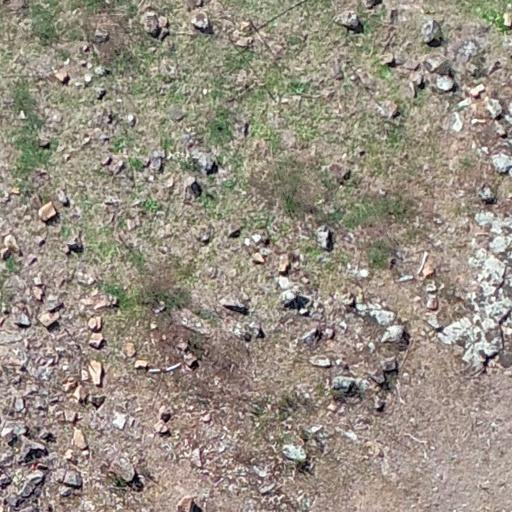stone: (468, 249, 512, 294), (459, 331, 502, 373), (238, 230, 273, 266), (473, 298, 512, 330), (106, 458, 143, 491), (170, 308, 210, 336), (474, 210, 512, 238), (186, 146, 218, 176), (36, 298, 64, 332), (330, 375, 364, 400), (370, 358, 399, 387), (438, 318, 470, 344), (17, 436, 48, 462), (17, 469, 44, 497), (62, 377, 87, 405), (177, 340, 200, 370), (332, 10, 362, 33), (301, 325, 335, 345), (420, 19, 444, 46), (219, 290, 247, 312), (426, 72, 454, 94), (1, 418, 25, 442), (110, 409, 136, 431), (140, 12, 162, 38), (380, 324, 407, 344), (366, 308, 396, 326), (87, 358, 105, 388), (183, 177, 202, 204), (239, 323, 265, 342), (0, 326, 26, 345), (427, 58, 454, 76), (37, 201, 59, 223), (146, 150, 166, 174), (316, 225, 334, 251), (417, 254, 435, 280), (491, 151, 512, 173), (282, 444, 306, 463), (488, 233, 510, 253), (482, 96, 502, 118), (166, 104, 189, 123), (328, 163, 348, 184), (71, 426, 88, 450), (478, 184, 498, 204), (190, 11, 210, 31), (378, 100, 398, 119), (12, 310, 32, 328), (380, 6, 400, 24), (160, 58, 178, 78), (2, 234, 20, 254), (87, 332, 106, 350), (301, 425, 325, 439), (92, 298, 116, 312), (309, 354, 333, 368), (196, 226, 214, 244), (66, 236, 84, 254), (52, 67, 70, 85), (175, 494, 193, 512), (76, 270, 96, 286), (310, 301, 325, 322), (232, 35, 254, 49), (332, 58, 346, 80), (45, 295, 63, 312), (93, 27, 111, 44), (189, 448, 204, 468), (64, 470, 81, 487), (258, 481, 278, 495), (298, 295, 312, 315), (279, 289, 297, 304), (467, 83, 485, 98), (409, 70, 425, 86), (87, 315, 103, 331), (158, 404, 172, 422), (154, 422, 172, 436), (12, 396, 26, 414), (427, 316, 443, 331), (278, 254, 290, 274), (276, 276, 293, 290), (57, 188, 70, 206), (452, 112, 463, 133), (381, 52, 397, 66), (90, 395, 106, 409), (62, 409, 78, 423), (156, 25, 170, 41), (126, 216, 140, 232), (238, 20, 254, 34), (6, 493, 22, 507), (454, 98, 471, 111), (360, 0, 382, 10), (152, 300, 167, 314), (112, 160, 125, 176), (252, 465, 268, 478), (426, 295, 439, 311), (238, 122, 250, 139), (33, 285, 45, 302), (104, 195, 122, 206), (205, 265, 219, 279), (227, 226, 243, 238), (124, 342, 136, 358), (134, 359, 150, 371), (342, 430, 358, 442), (501, 10, 512, 27), (0, 247, 13, 261), (54, 468, 66, 483), (494, 123, 506, 138), (0, 452, 12, 467), (505, 101, 512, 126), (158, 15, 170, 29), (163, 175, 175, 189), (35, 168, 49, 180), (93, 66, 109, 76), (80, 367, 90, 383), (374, 399, 386, 412), (199, 411, 212, 423), (37, 139, 51, 150), (300, 497, 311, 511), (124, 114, 136, 126), (100, 154, 112, 166), (396, 274, 414, 282), (251, 232, 263, 244), (0, 474, 12, 486), (336, 358, 348, 370), (19, 505, 39, 512), (408, 82, 416, 99), (239, 291, 251, 302), (33, 236, 45, 247), (26, 254, 37, 266), (64, 448, 74, 461), (461, 84, 471, 97), (58, 486, 71, 496), (96, 88, 106, 100), (408, 60, 420, 70), (358, 268, 370, 278), (326, 401, 338, 411), (226, 268, 238, 278), (471, 118, 485, 126), (33, 275, 43, 286), (51, 113, 62, 123), (18, 109, 28, 120), (425, 282, 436, 292), (337, 403, 347, 414), (83, 74, 93, 84), (338, 321, 348, 331), (9, 188, 20, 196), (62, 154, 72, 162), (150, 322, 158, 331), (74, 82, 82, 90), (142, 158, 149, 167), (78, 60, 86, 67), (350, 74, 358, 81), (301, 277, 309, 284), (87, 63, 93, 70), (83, 46, 89, 52)
